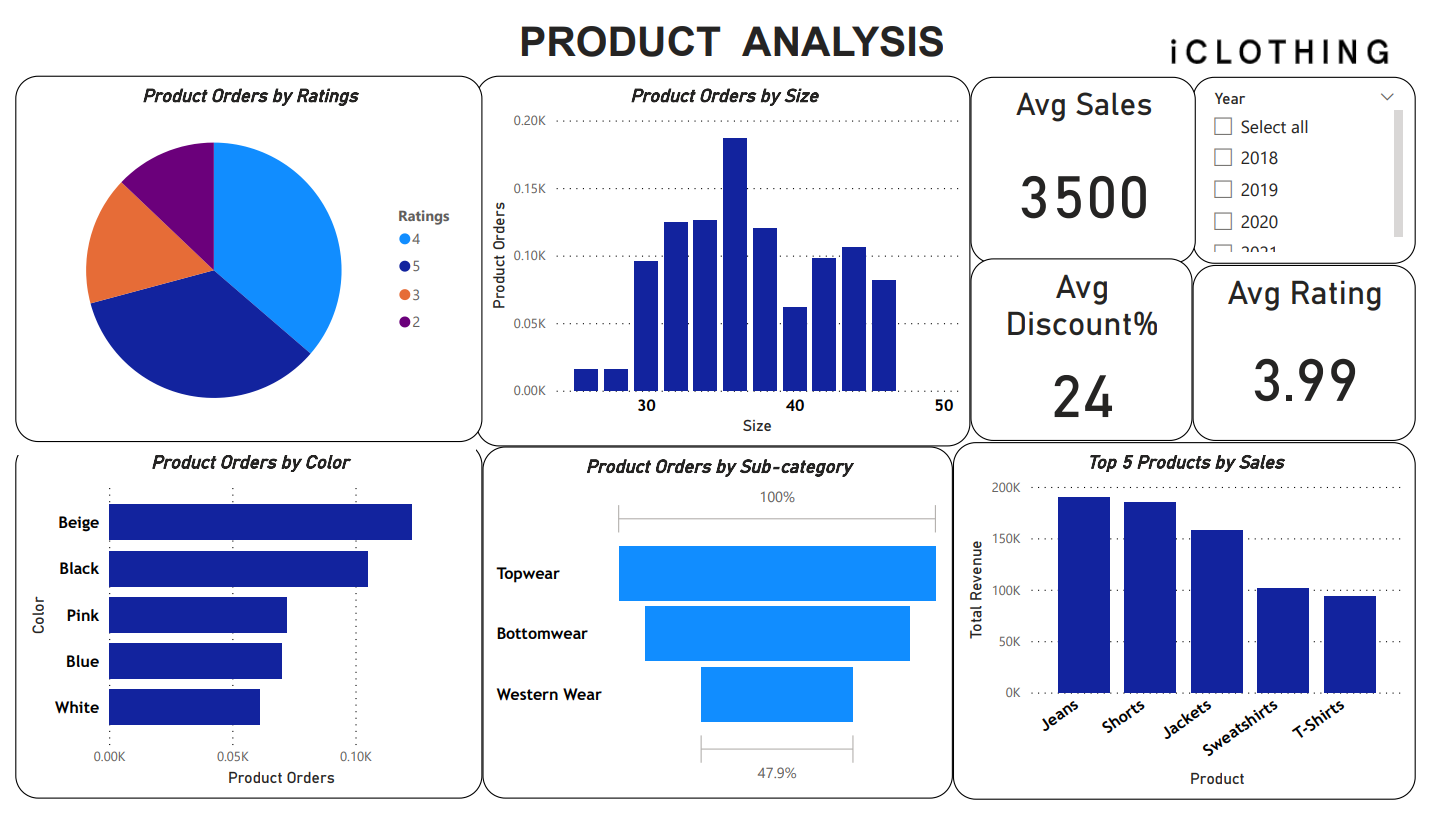

The page's visual inventory and layout, read from the dashboard file:
{"tool":"powerbi","page":{"name":"Product Analysis","canvas":[1280,720],"ordinal":2},"visuals":[{"type":"clusteredColumnChart","title":"Top 5 Products by Sales","fields":{"Category":["iclothing products.Product Name"],"Y":["Sum(iclothing sales.Revenue)"]},"box":[857,393,423.3,326.7],"z":0},{"type":"columnChart","fields":{"Category":["iclothing products.Size"],"Y":["CountNonNull(iclothing customers.Customer ID)"]},"box":[420.9,58.1,452.3,338.4],"z":1000},{"type":"clusteredBarChart","fields":{"Category":["iclothing products.Color"],"Y":["CountNonNull(iclothing sales.Customer ID)"]},"box":[0,393,426.7,325.6],"z":2000},{"type":"funnel","fields":{"Category":["iclothing products.Sub-category"],"Y":["CountNonNull(iclothing customers.Customer ID)"]},"box":[426.7,396.5,430.2,322.1],"z":3000},{"type":"textbox","box":[0,1.2,1019.8,53.5],"z":4000},{"type":"image","box":[1019.6,0,260.7,68.6],"z":5000},{"type":"slicer","fields":{"Values":["iclothing calender.Year"]},"box":[1076.2,58.8,203.8,171.2],"z":6000},{"type":"qnaVisual","box":[0,87.8,421.3,317],"z":7000},{"type":"pieChart","fields":{"Category":["iclothing products.Ratings"],"Y":["CountNonNull(iclothing customers.Customer ID)"]},"box":[0,58.1,426.7,334.9],"z":8000},{"type":"card","title":"Avg Sales","fields":{"Values":["Count(iclothing sales.Order ID)"]},"box":[872.5,58.8,206.2,171.2],"z":9000},{"type":"card","title":"Avg Rating","fields":{"Values":["Avg(iclothing products.Ratings)"]},"box":[1075.8,230.5,204.5,161.9],"z":10000},{"type":"card","title":"Avg Discount%","fields":{"Values":["Count(iclothing sales.Discount)"]},"box":[872.7,225,203.1,167.4],"z":11000}]}

Visuals, with their boxes in screenshot pixels (x1, y1, x2, y2), scaled from the page's 1280x720 canvas onto the 1430x818 screenshot:
"Top 5 Products by Sales" clusteredColumnChart: rect(957, 446, 1429, 817)
columnChart - iclothing products.Size x CountNonNull(iclothing customers.Customer ID): rect(470, 66, 976, 450)
clusteredBarChart - iclothing products.Color x CountNonNull(iclothing sales.Customer ID): rect(0, 446, 477, 816)
funnel - iclothing products.Sub-category x CountNonNull(iclothing customers.Customer ID): rect(477, 450, 957, 816)
textbox: rect(0, 1, 1139, 62)
image: rect(1139, 0, 1429, 78)
slicer - iclothing calender.Year: rect(1202, 67, 1429, 261)
qnaVisual: rect(0, 100, 471, 460)
pieChart - iclothing products.Ratings x CountNonNull(iclothing customers.Customer ID): rect(0, 66, 477, 446)
"Avg Sales" card: rect(975, 67, 1205, 261)
"Avg Rating" card: rect(1202, 262, 1429, 446)
"Avg Discount%" card: rect(975, 256, 1202, 446)
